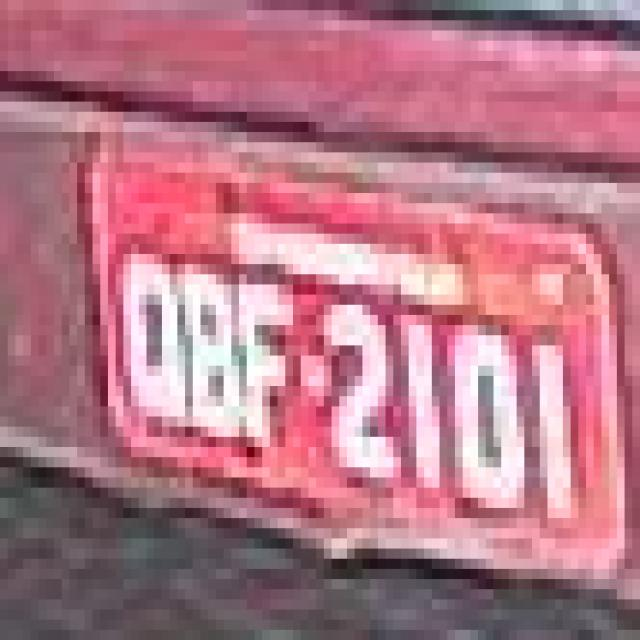0: (446, 284, 528, 524)
1: (520, 313, 586, 537), (392, 287, 452, 522)
B: (168, 245, 248, 455)
F: (241, 260, 305, 472)
Q: (107, 244, 186, 441)
